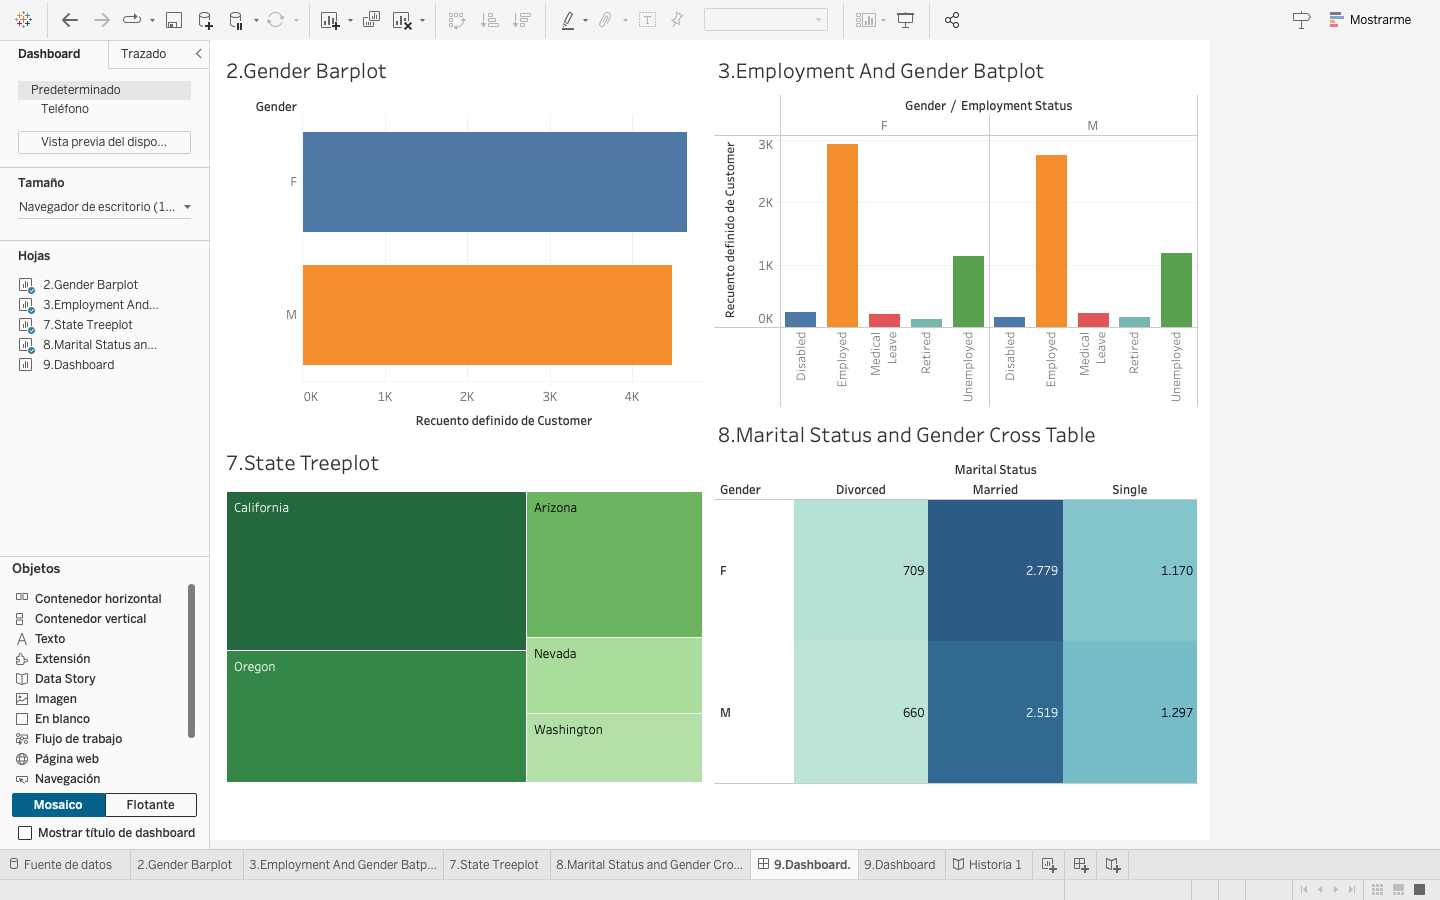

Layout of this report page (visuals, bound fields, positions):
{"tool":"tableau","page":{"name":"9.Dashboard.","canvas":[1000,800],"ordinal":0},"visuals":[{"type":"worksheet","title":"2.Gender Barplot","mark":"Automatic","rows":["Gender"],"cols":["Customer"],"box":[8,8,492,392]},{"type":"worksheet","title":"3.Employment And Gender Batplot","mark":"Bar","rows":["Customer"],"cols":["Gender","EmploymentStatus"],"box":[500,8,492,364]},{"type":"worksheet","title":"8.Marital Status and Gender Cross Table ","mark":"Square","rows":["Gender"],"cols":["Marital Status"],"box":[500,372,492,420]},{"type":"worksheet","title":"7.State Treeplot","mark":"Automatic","box":[8,400,492,392]}]}

Visuals, with their boxes on the page's 1000x800 design canvas (x1, y1, x2, y2). These are canvas units, not pixel positions in the 1440x900 screenshot, which may show the page scaled, cropped or inside an application window:
"2.Gender Barplot" worksheet: bbox(8, 8, 500, 400)
"3.Employment And Gender Batplot" worksheet (Bar marks): bbox(500, 8, 992, 372)
"8.Marital Status and Gender Cross Table " worksheet (Square marks): bbox(500, 372, 992, 792)
"7.State Treeplot" worksheet: bbox(8, 400, 500, 792)
